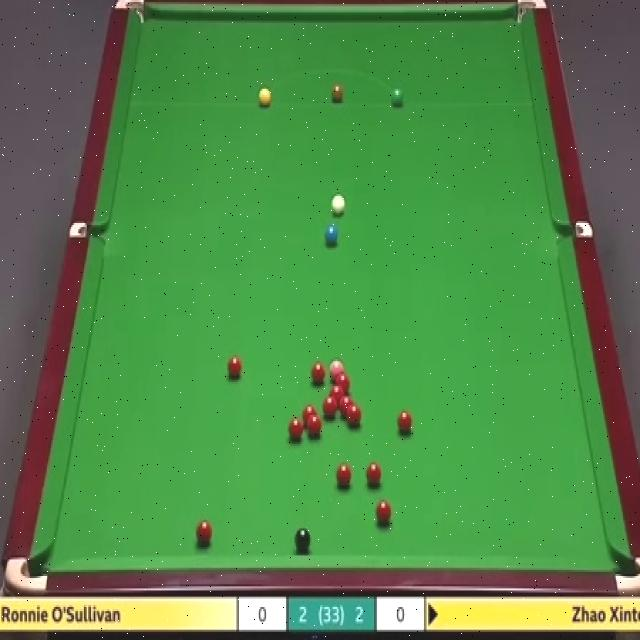black-ball: (293, 524, 311, 550)
blue-ball: (324, 226, 339, 243)
brown-ball: (332, 84, 343, 103)
green-ball: (390, 85, 405, 108)
pink-ball: (325, 361, 343, 376)
red-ball: (396, 406, 413, 434), (196, 521, 211, 549), (226, 354, 242, 380), (322, 396, 338, 419), (375, 498, 389, 524), (308, 412, 323, 436), (346, 403, 362, 425), (338, 466, 352, 490), (365, 461, 380, 483), (289, 420, 304, 440), (338, 392, 352, 413), (312, 362, 325, 383), (328, 384, 342, 403), (335, 374, 349, 392)
white-ball: (330, 193, 346, 216)
yellow-ball: (259, 86, 271, 108)
